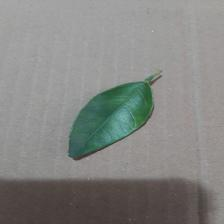greening: (101, 80, 150, 110)
